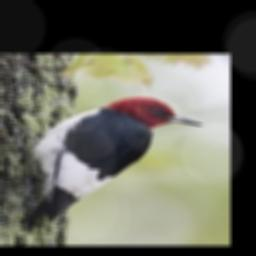Woodpecker: (11, 94, 212, 230)
